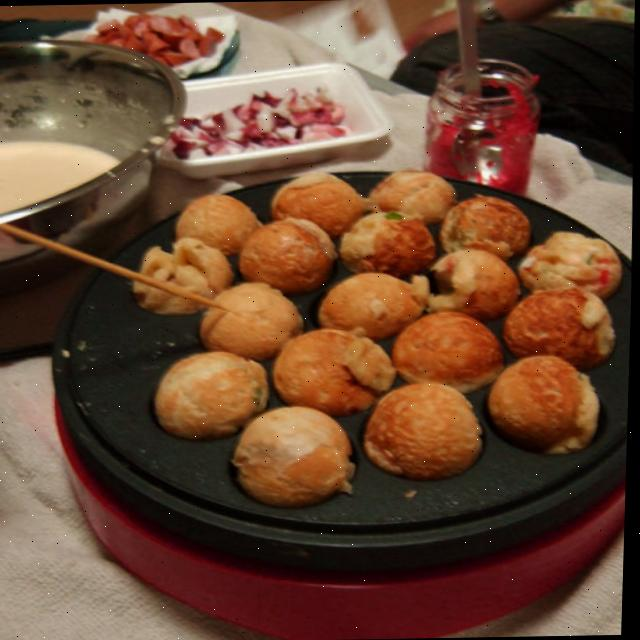炸货点心: (42, 142, 637, 640)
